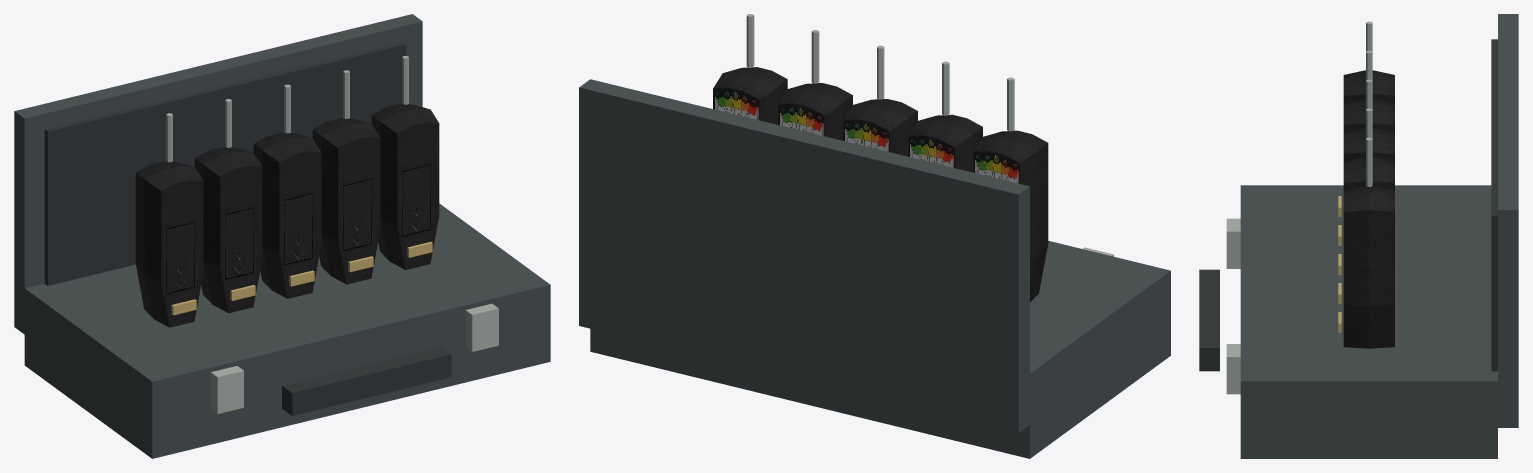
Rendered from blender_emf_array_3.glb.
3 views of the same model, side by side, from view 1: azimuth 30°, elevation 25°; view 2: azimuth 150°, elevation 25°; view 3: azimuth 270°, elevation 25° (orthographic). The views are drawn at different scales.
Parts seen in each view (by area): view 1: blender_emf_array_3; view 2: blender_emf_array_3; view 3: blender_emf_array_3.
Boxes of the visible parts, <box> form: blender_emf_array_3: <box>14,14,550,458</box>; blender_emf_array_3: <box>579,14,1170,458</box>; blender_emf_array_3: <box>1199,14,1518,458</box>.
Size of the model in its own units: 0.27 by 0.18 by 0.186.
1 material, 1 textured.
